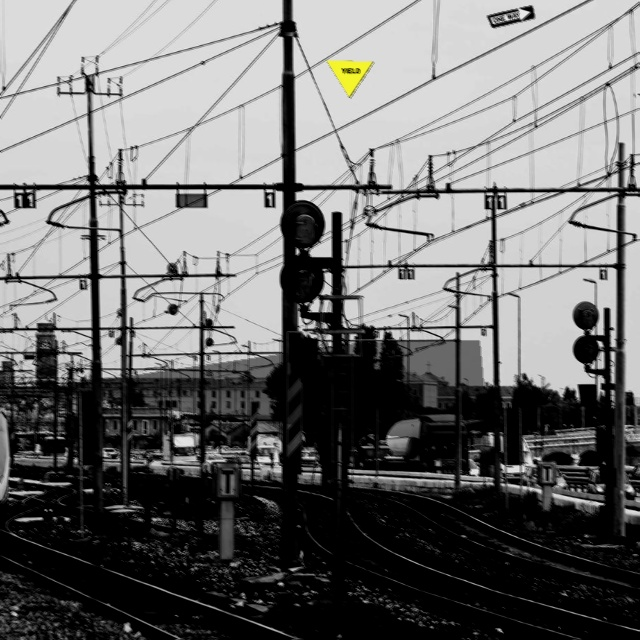ONE_WAY_ right: (486, 5, 535, 29)
YIELD: (325, 60, 374, 99)
